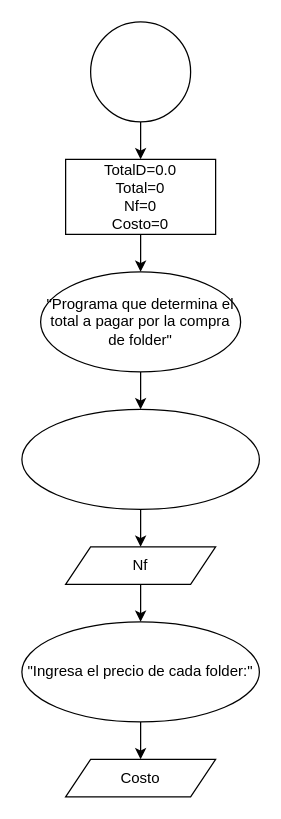
This 281x819 diagram has some shape labels left out. The centre of each missing label's shape, as x and y in pixels:
"Ingresa la cantidad de forder:": point 140,458
Inicio: point 140,71
